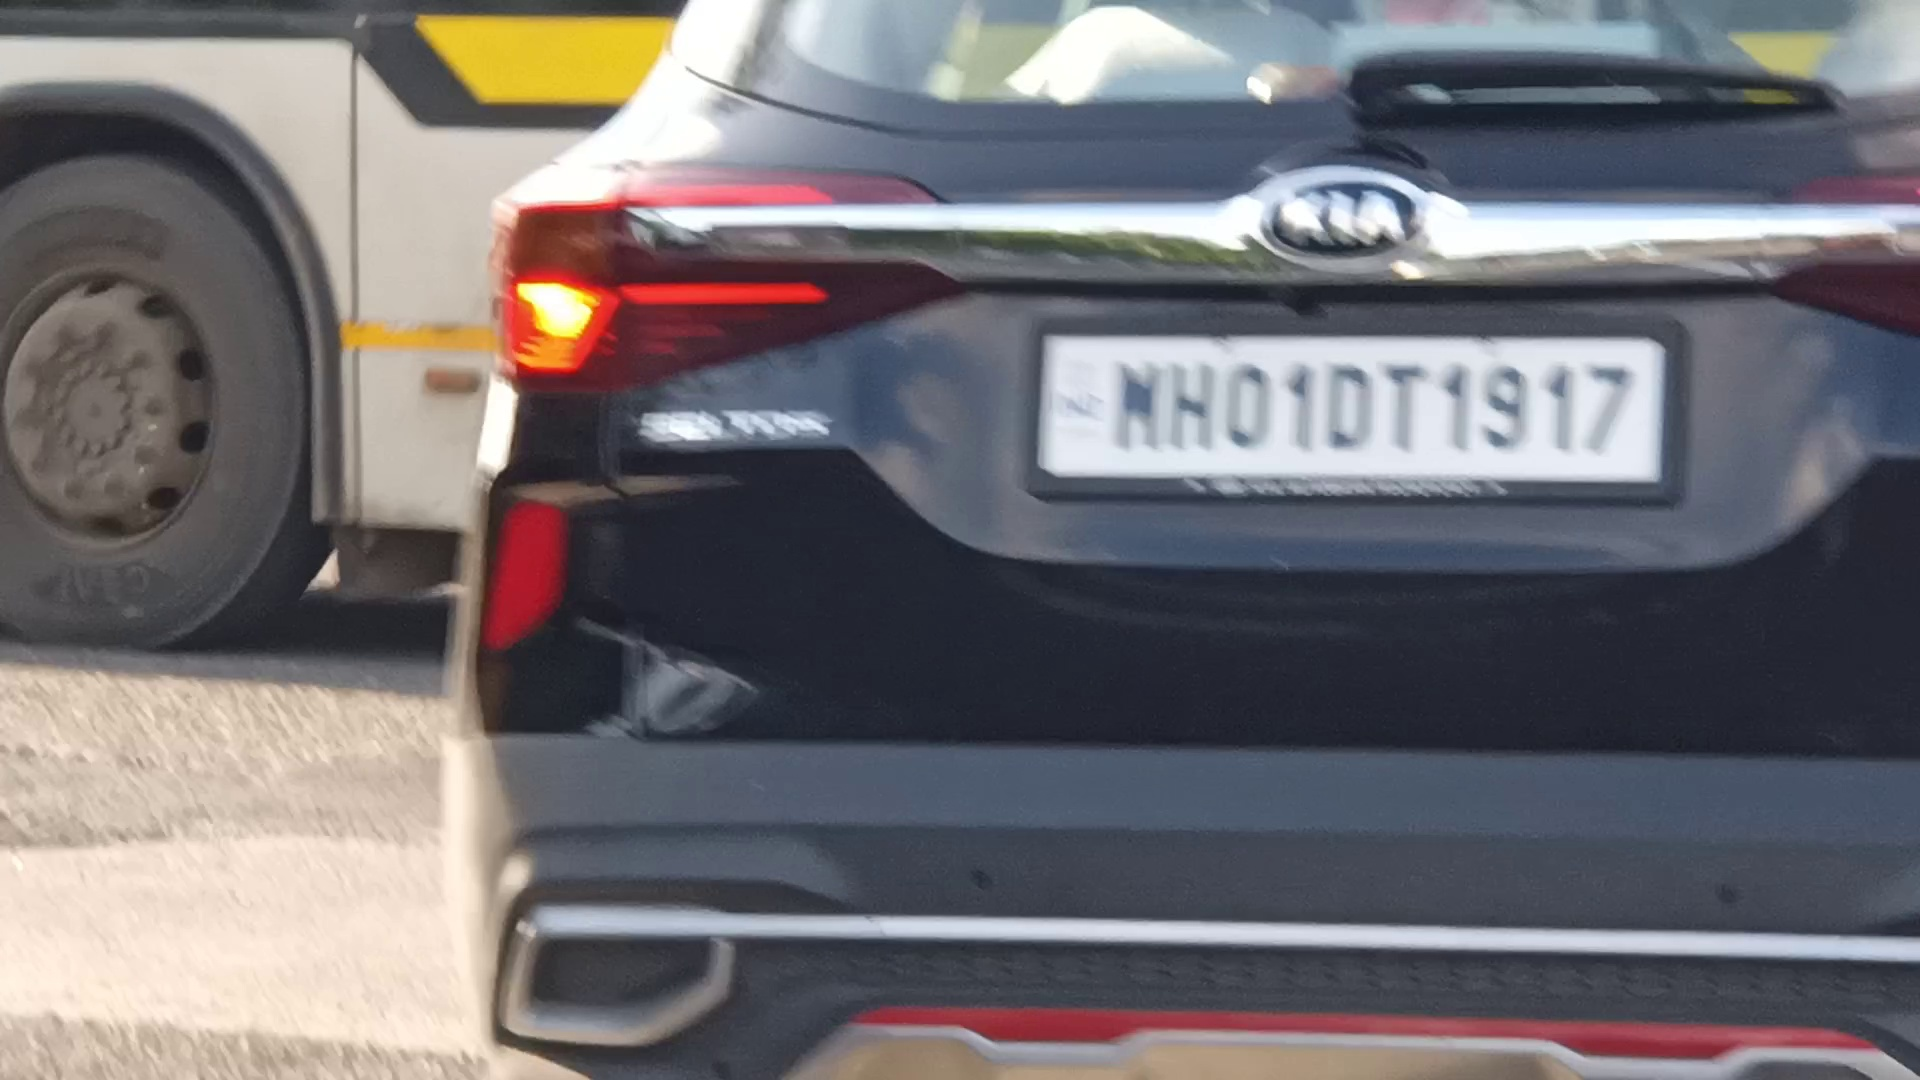MH01DT1917: (1028, 329, 1663, 487)
